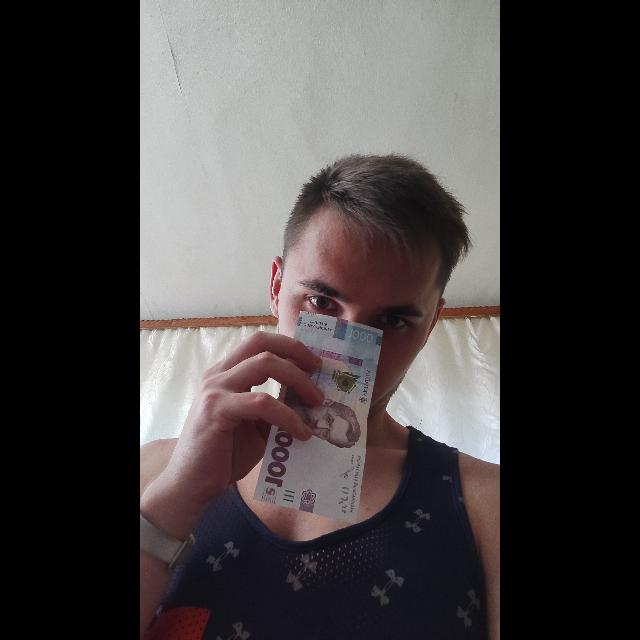1000uah: (250, 310, 383, 524)
